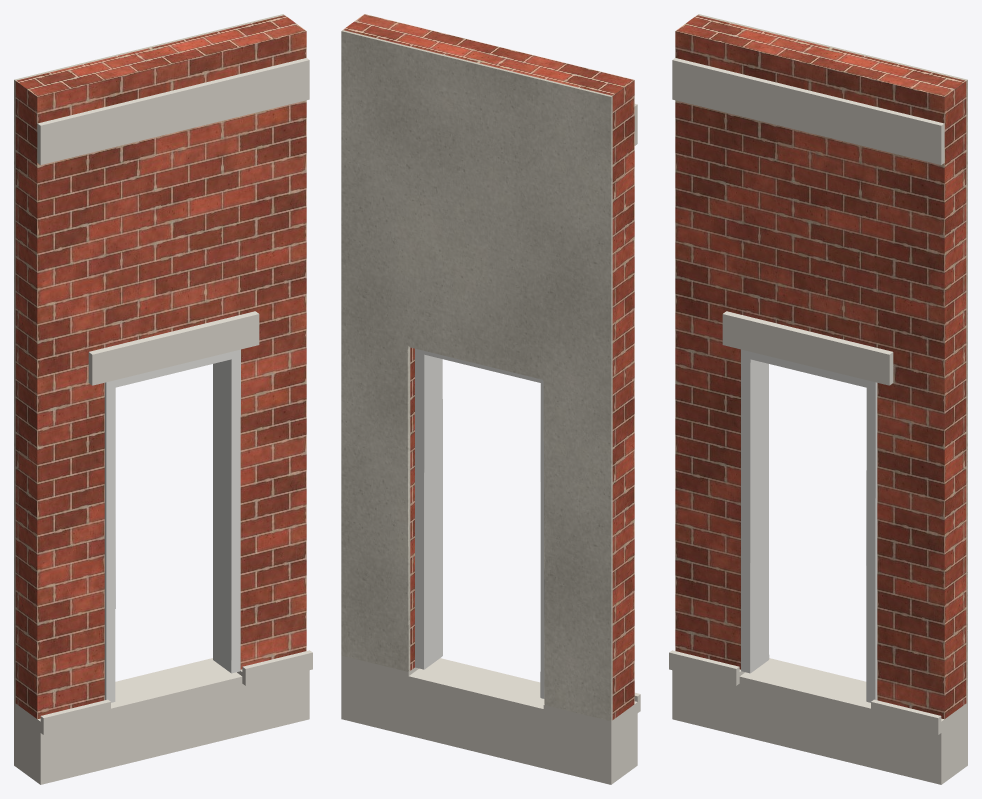
Rendered from wall_door.glb.
3 renders of one model, left to right at view 1: azimuth 30°, elevation 25°; view 2: azimuth 150°, elevation 25°; view 3: azimuth 330°, elevation 25°, orthographic.
Visible parts, largest first — view 1: wall_door_brick, wall_door_lime, wall_door_frame, wall_door_plaster; view 2: wall_door_plaster, wall_door_brick, wall_door_lime, wall_door_frame; view 3: wall_door_brick, wall_door_lime, wall_door_frame, wall_door_plaster.
Boxes of the visible parts, x1,y1,x2,y2 form: wall_door_brick: (15,15,306,719); wall_door_lime: (14,58,312,784); wall_door_frame: (104,349,240,702); wall_door_plaster: (14,14,284,702); wall_door_plaster: (341,30,612,721); wall_door_brick: (343,14,634,719); wall_door_lime: (341,104,640,784); wall_door_frame: (415,348,544,698); wall_door_brick: (675,15,966,719); wall_door_lime: (669,58,967,784); wall_door_frame: (741,349,877,702); wall_door_plaster: (697,14,967,702).
Bounding box in the file's own units: 2 × 4.87 × 0.38.
4 materials, 2 textured.
